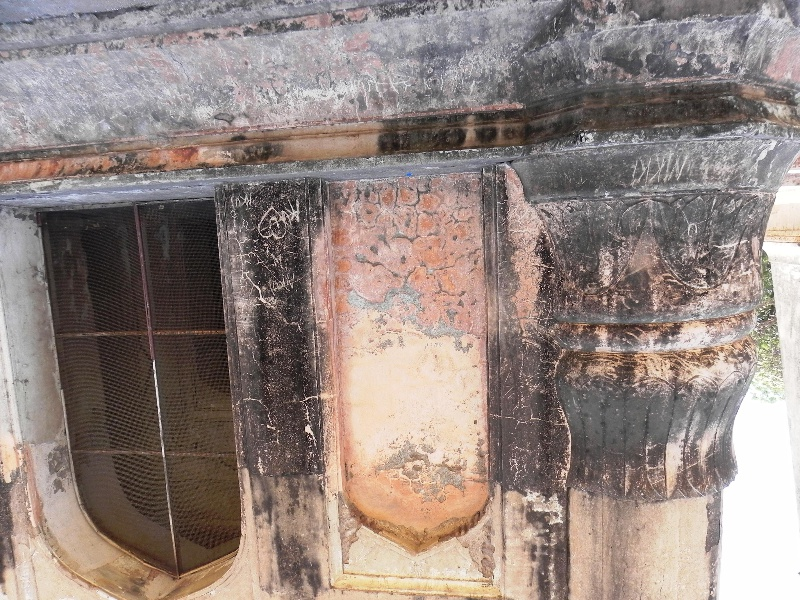Spalling: (344, 287, 435, 318)
